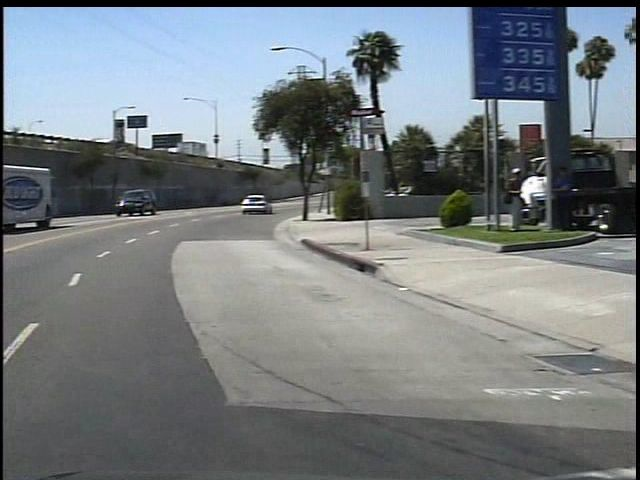person: (493, 165, 520, 233)
